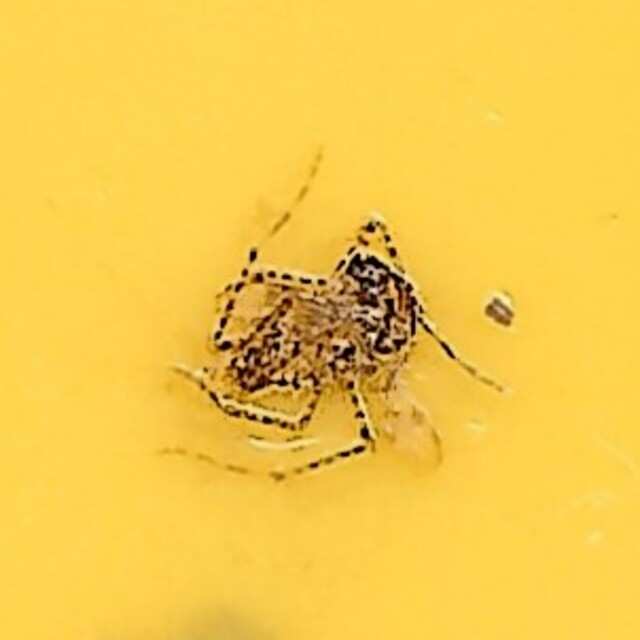Nematocera: (212, 213, 428, 427)
